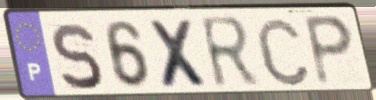6: (103, 18, 152, 92)
C: (252, 14, 313, 89)
P: (301, 12, 357, 89)
R: (196, 13, 263, 93)
S: (48, 20, 105, 93)
X: (145, 18, 214, 91)
